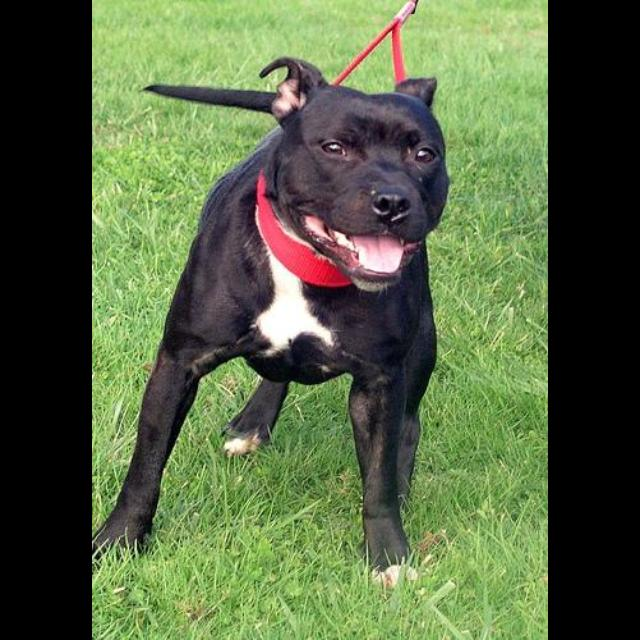staffford: (93, 56, 451, 589)
